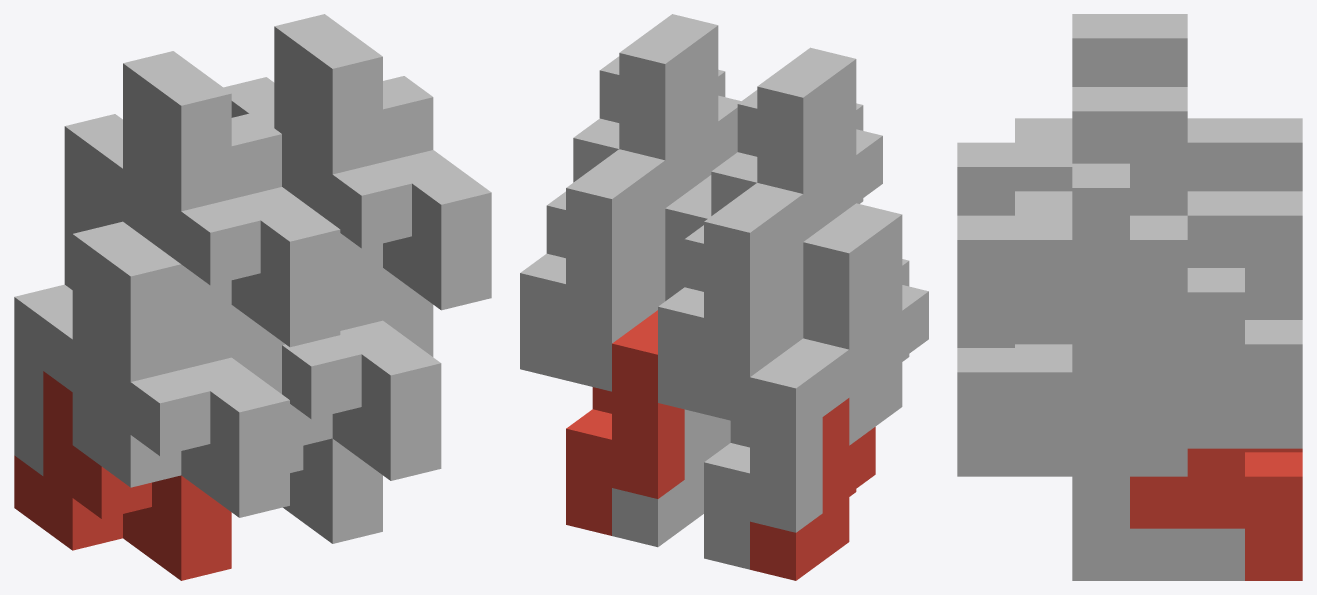
The model's file is tiling.obj.
3 views of the same model, side by side, from view 1: azimuth 30°, elevation 25°; view 2: azimuth 150°, elevation 25°; view 3: azimuth 270°, elevation 25° (orthographic). The views are drawn at different scales.
Parts seen in each view (by area): view 1: copy_1_domain_2, copy_1_domain_4, copy_1_domain_8, copy_1_domain_1, copy_1_domain_6, copy_2_domain_4, copy_2_domain_8, copy_2_domain_2, copy_2_domain_1, copy_1_domain_5, copy_2_domain_3, copy_2_domain_6 (+3 smaller); view 2: copy_2_domain_3, copy_2_domain_7, copy_2_domain_1, copy_2_domain_5, copy_2_domain_4, copy_2_domain_8, copy_2_domain_2, copy_1_domain_1, copy_1_domain_2, copy_1_domain_5, copy_1_domain_3, copy_1_domain_7 (+3 smaller); view 3: copy_2_domain_8, copy_2_domain_7, copy_2_domain_5, copy_1_domain_8, copy_1_domain_6, copy_1_domain_5, copy_1_domain_7, copy_2_domain_4, copy_2_domain_3, copy_2_domain_6, copy_1_domain_4.
Boxes of the visible parts, x1,y1,x2,y2 form: copy_1_domain_2: (72,308,289,517); copy_1_domain_4: (152,137,340,347); copy_1_domain_8: (303,100,491,310); copy_1_domain_1: (14,371,231,580); copy_1_domain_6: (282,336,441,480); copy_2_domain_4: (123,51,310,242); copy_2_domain_8: (274,14,461,201); copy_2_domain_2: (72,221,260,413); copy_2_domain_1: (14,284,72,475); copy_1_domain_5: (283,438,382,543); copy_2_domain_3: (64,114,122,289); copy_2_domain_6: (337,268,411,353); copy_2_domain_3: (658,183,803,413); copy_2_domain_7: (520,149,665,380); copy_2_domain_1: (704,338,849,569); copy_2_domain_5: (566,310,684,535); copy_2_domain_4: (711,47,856,241); copy_2_domain_8: (573,14,718,207); copy_2_domain_2: (803,203,902,397); copy_1_domain_1: (750,398,875,580); copy_1_domain_2: (849,259,928,445); copy_1_domain_5: (612,409,730,547); copy_1_domain_3: (704,242,803,425); copy_1_domain_7: (566,209,665,391); copy_2_domain_8: (1015,87,1187,344); copy_2_domain_7: (1130,191,1302,448); copy_2_domain_5: (1130,448,1302,580); copy_1_domain_8: (957,191,1129,344); copy_1_domain_6: (957,344,1129,476); copy_1_domain_5: (1072,476,1244,580); copy_1_domain_7: (1072,344,1244,448); copy_2_domain_4: (1015,14,1187,191); copy_2_domain_3: (1187,118,1302,191); copy_2_domain_6: (1015,348,1187,476); copy_1_domain_4: (957,118,1072,215).
Bounding box in the file's own units: 6 × 9 × 6.
